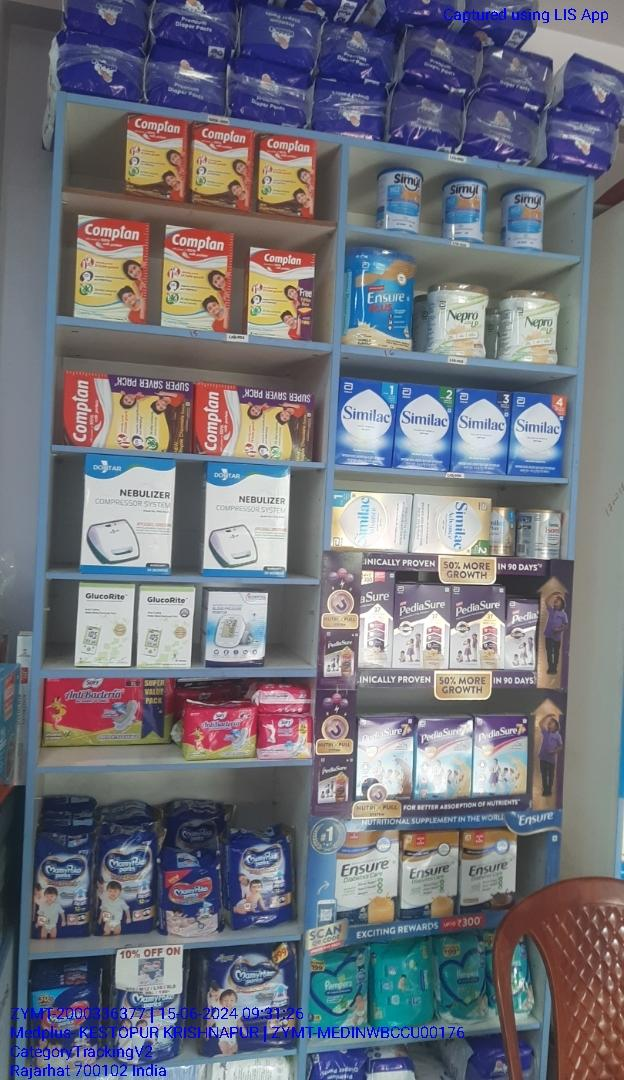COMPLAN_CHOCOLATE_200_GMS_PACK: (191, 120, 252, 213), (256, 131, 316, 219), (127, 115, 185, 201)
COMPLAN_CREAMY_CLASSIC_500_G_PACK: (160, 227, 237, 331), (73, 214, 146, 322), (247, 246, 315, 340)
PEDIASURE_7_PLUS_CHOCOLATE_400_G_PACK: (357, 716, 412, 794)
